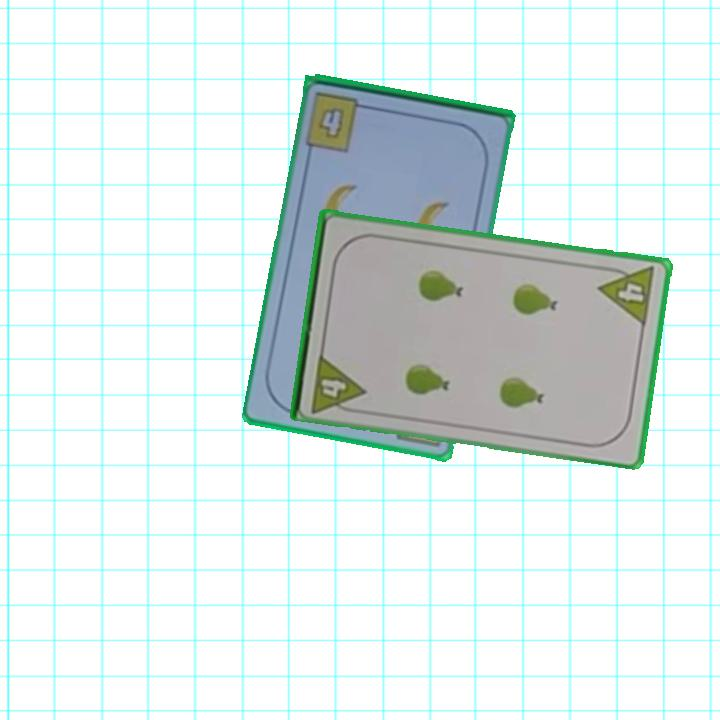4b: (315, 104, 348, 143)
4p: (595, 262, 659, 328), (307, 349, 368, 417)
